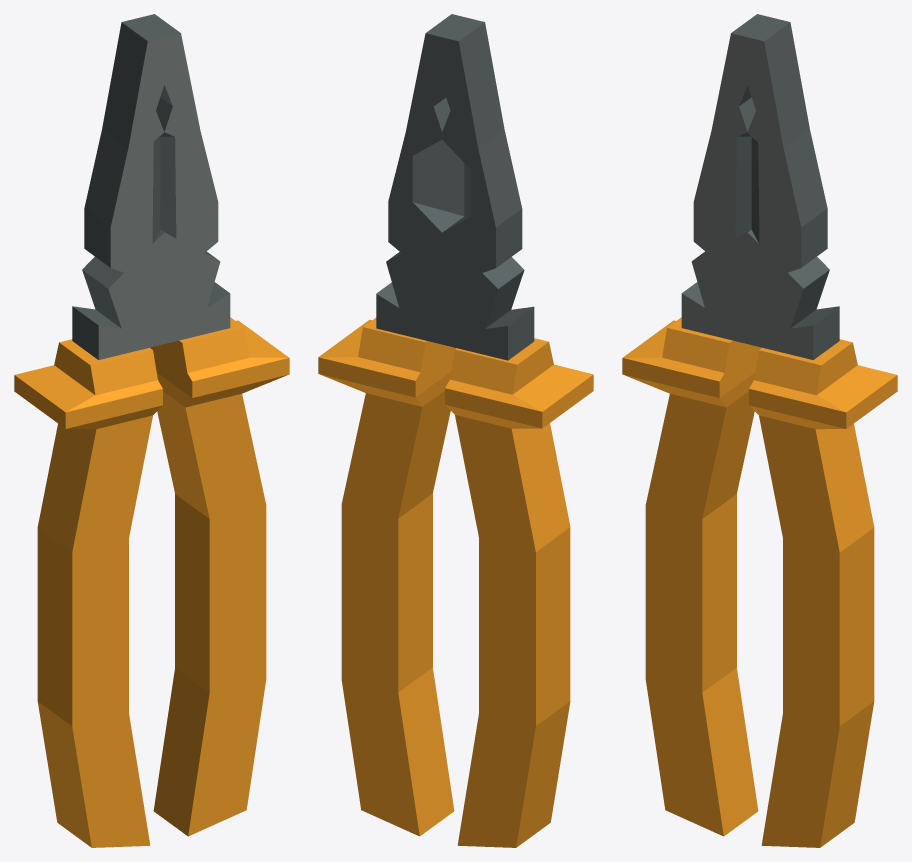
File: SM_Pliers_L.gltf
3 renders of one model, left to right at view 1: azimuth 30°, elevation 25°; view 2: azimuth 150°, elevation 25°; view 3: azimuth 330°, elevation 25°, orthographic.
Visible parts, largest first — view 1: SM_Pliers_L, SM_Pliers_R; view 2: SM_Pliers_R, SM_Pliers_L; view 3: SM_Pliers_L, SM_Pliers_R.
Boxes of the visible parts, <box> form: SM_Pliers_L: <box>14,14,220,847</box>; SM_Pliers_R: <box>82,18,289,836</box>; SM_Pliers_R: <box>318,18,522,836</box>; SM_Pliers_L: <box>388,14,593,847</box>; SM_Pliers_L: <box>622,18,827,836</box>; SM_Pliers_R: <box>693,14,897,847</box>.
Size of the model in its own units: 0.1129 by 0.3858 by 0.0448.
Materials: 1 (1 with a texture image).
